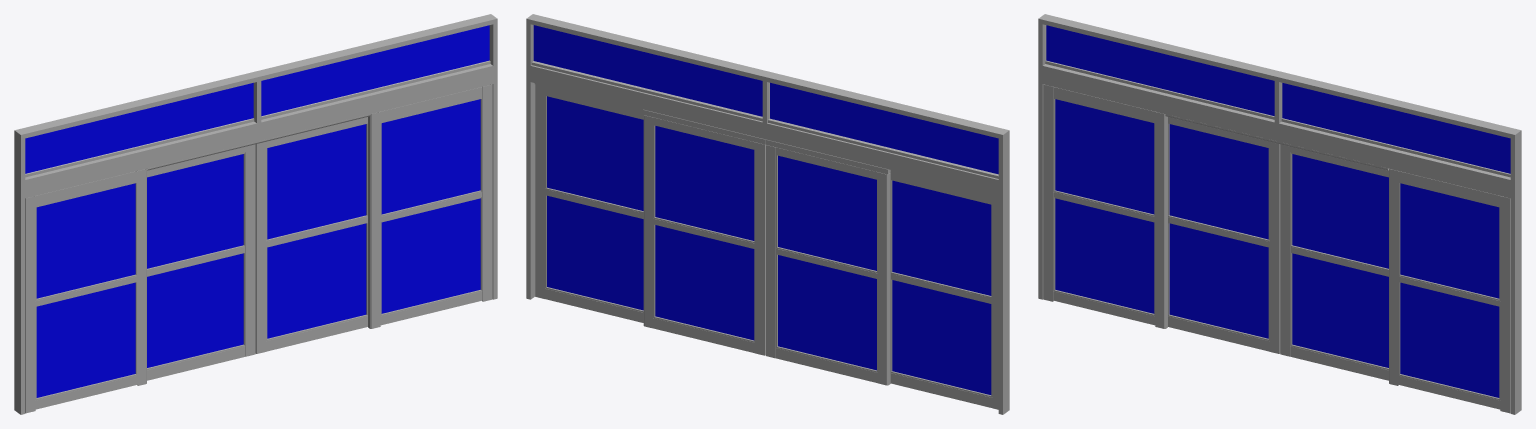
Rendered from assa_abloy_sl500.glb.
3 renders of one model, left to right at view 1: azimuth 30°, elevation 25°; view 2: azimuth 150°, elevation 25°; view 3: azimuth 330°, elevation 25°, orthographic.
Parts seen in each view (by area): view 1: object 8, 3DGeom-6, 3DGeom-7, 3DGeom-1, 3DGeom-5, 3DGeom-4, 3DGeom-2, 3DGeom-3, object 9; view 2: object 8, 3DGeom-6, 3DGeom-7, 3DGeom-2, 3DGeom-5, 3DGeom-4, 3DGeom-1, 3DGeom-3, object 9; view 3: object 8, 3DGeom-6, 3DGeom-7, 3DGeom-1, 3DGeom-4, 3DGeom-5, 3DGeom-2, 3DGeom-3, object 9.
Boxes of the visible parts, bbox=[...] form: object 8: bbox=[25, 25, 489, 397]; 3DGeom-6: bbox=[14, 14, 497, 414]; 3DGeom-7: bbox=[25, 64, 493, 197]; 3DGeom-1: bbox=[25, 171, 137, 413]; 3DGeom-5: bbox=[147, 112, 380, 370]; 3DGeom-4: bbox=[372, 84, 492, 325]; 3DGeom-2: bbox=[136, 122, 367, 385]; 3DGeom-3: bbox=[266, 117, 481, 351]; object 9: bbox=[25, 25, 490, 174]; object 8: bbox=[533, 25, 998, 394]; 3DGeom-6: bbox=[526, 14, 1009, 414]; 3DGeom-7: bbox=[530, 65, 998, 195]; 3DGeom-2: bbox=[643, 109, 992, 397]; 3DGeom-5: bbox=[765, 139, 890, 385]; 3DGeom-4: bbox=[535, 84, 643, 322]; 3DGeom-1: bbox=[890, 170, 998, 409]; 3DGeom-3: bbox=[534, 83, 755, 353]; object 9: bbox=[533, 25, 998, 174]; object 8: bbox=[1046, 25, 1510, 397]; 3DGeom-6: bbox=[1038, 14, 1521, 414]; 3DGeom-7: bbox=[1042, 64, 1510, 197]; 3DGeom-1: bbox=[1043, 84, 1155, 325]; 3DGeom-4: bbox=[1391, 169, 1510, 413]; 3DGeom-5: bbox=[1168, 122, 1399, 385]; 3DGeom-2: bbox=[1155, 112, 1388, 370]; 3DGeom-3: bbox=[1290, 146, 1499, 380]; object 9: bbox=[1045, 25, 1510, 174].
Bounding box in the file's own units: 4.88 × 2.74 × 0.1146.
